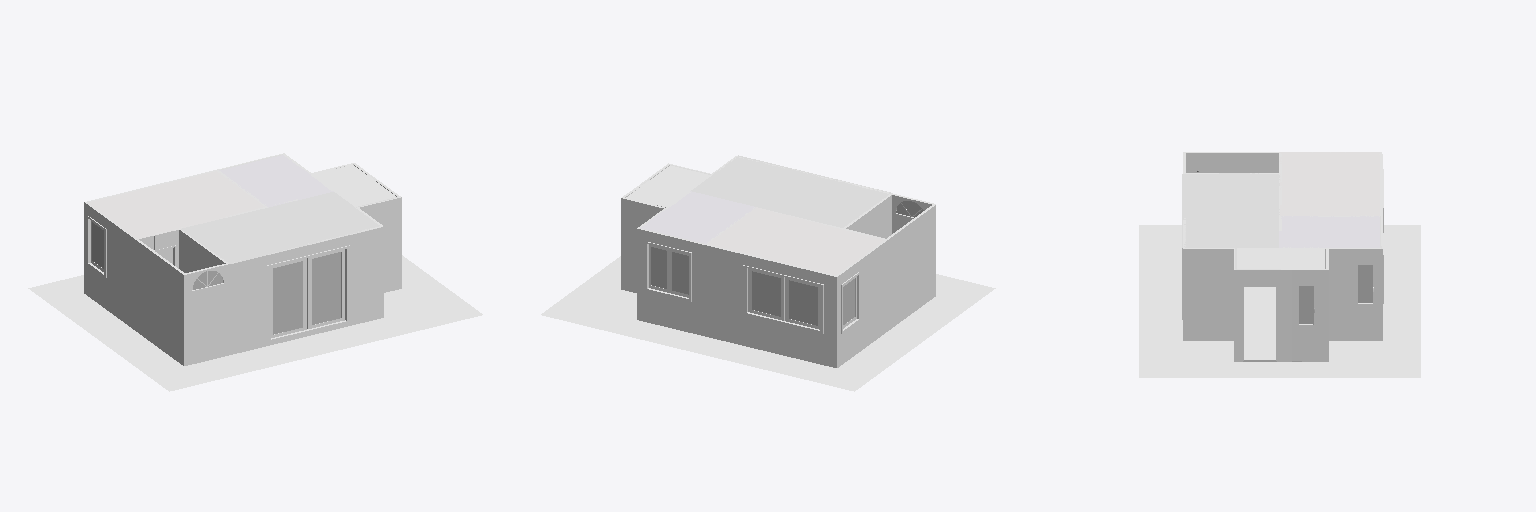
File: APARTAESTUDIO-SPACEMORHP.obj
The picture shows the model from 3 angles: view 1: azimuth 30°, elevation 25°; view 2: azimuth 150°, elevation 25°; view 3: azimuth 270°, elevation 25°; orthographic projection.
Parts seen in each view (by area): view 1: room_51_261, room_45_253, room_43_251, wall_29_169, room_50_260, wall_37_217, wall_28_163, room_48_257, wall_34_199, sweethome3d_window_pane_on_hinge_2_310, wall_14_81, sweethome3d_window_pane_on_hinge_1_305 (+8 smaller); view 2: wall_38_222, room_51_261, room_45_253, room_43_251, room_50_260, wall_37_217, wall_35_204, room_48_257, wall_34_199, wall_6_32, sweethome3d_window_pane_on_hinge_2_297, sweethome3d_window_pane_on_hinge_1_292 (+8 smaller); view 3: room_51_261, room_45_253, room_43_251, wall_5_26, wall_12_68, room_48_257, wall_15_87, wall_7_38, wall_37_216, room_45_252, room_50_260, room_47_255 (+5 smaller).
Part boxes in pixels (x1,y1,x2,y2): room_51_261: (65,255,482,382); room_45_253: (181,192,380,263); room_43_251: (89,171,264,239); wall_29_169: (229,228,382,354); room_50_260: (28,280,205,391); wall_37_217: (135,240,184,365); wall_28_163: (185,264,228,365); room_48_257: (219,155,333,207); wall_34_199: (85,205,129,326); sweethome3d_window_pane_on_hinge_2_310: (273,261,302,334); wall_14_81: (360,197,401,292); sweethome3d_window_pane_on_hinge_1_305: (312,252,340,324); wall_38_222: (705,245,836,367); room_51_261: (541,256,958,382); room_45_253: (691,155,890,227); room_43_251: (708,207,884,274); room_50_260: (818,280,995,391); wall_37_217: (888,205,935,330); wall_35_204: (637,229,704,335); room_48_257: (640,191,755,243); wall_34_199: (838,245,882,367); wall_6_32: (621,198,663,292); sweethome3d_window_pane_on_hinge_2_297: (752,271,780,316); sweethome3d_window_pane_on_hinge_1_292: (789,280,817,325); room_51_261: (1139,243,1420,377); room_45_253: (1182,173,1279,247); room_43_251: (1279,152,1379,215); wall_5_26: (1329,249,1382,340); wall_12_68: (1183,249,1233,340); room_48_257: (1279,216,1379,247); wall_15_87: (1234,270,1291,361); wall_7_38: (1292,270,1328,361); wall_37_216: (1186,153,1278,172); room_45_252: (1244,287,1275,339); room_50_260: (1139,225,1420,242); room_47_255: (1237,248,1280,268).
Bounding box in the file's own units: 900 × 250 × 700.